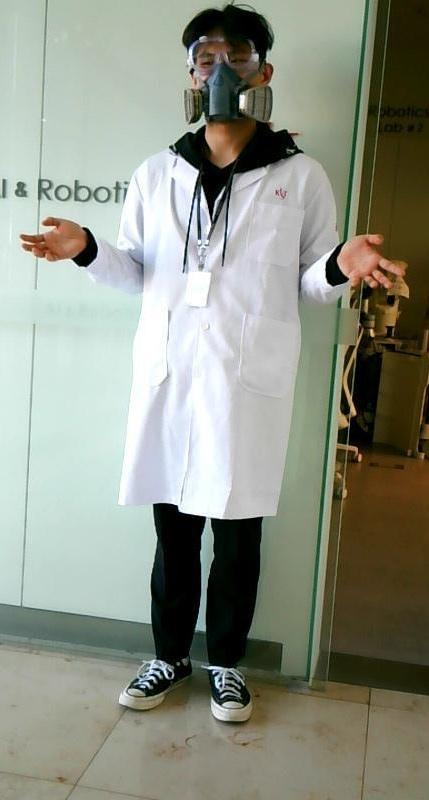lab_coat: (113, 150, 317, 503)
